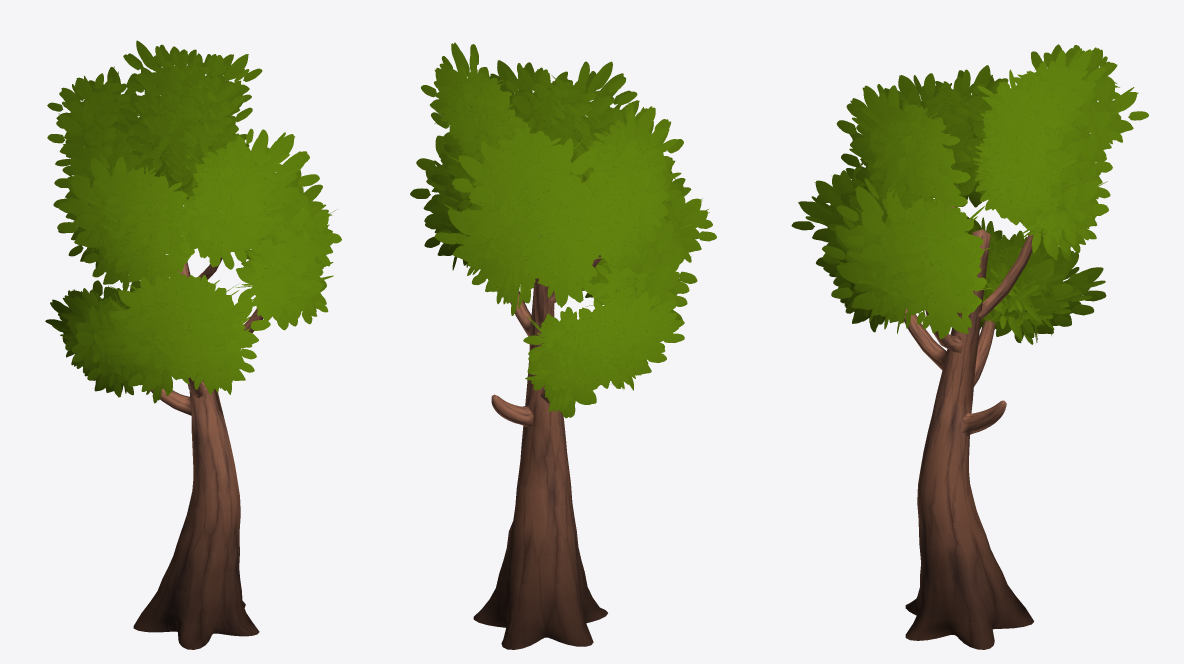
The model's file is common_tree_5.glb.
3 renders of one model, left to right at view 1: azimuth 30°, elevation 25°; view 2: azimuth 150°, elevation 25°; view 3: azimuth 270°, elevation 25°, orthographic. The views are drawn at different scales.
Parts seen in each view (by area): view 1: CommonTree_5; view 2: CommonTree_5; view 3: CommonTree_5.
Part boxes in pixels (left/top/right/bottom): CommonTree_5: left=45, top=40, right=341, bottom=649; CommonTree_5: left=410, top=42, right=716, bottom=649; CommonTree_5: left=791, top=44, right=1148, bottom=649.
Size of the model in its own units: 3.67 by 7.01 by 4.22.
Materials: 2 (2 with a texture image).
